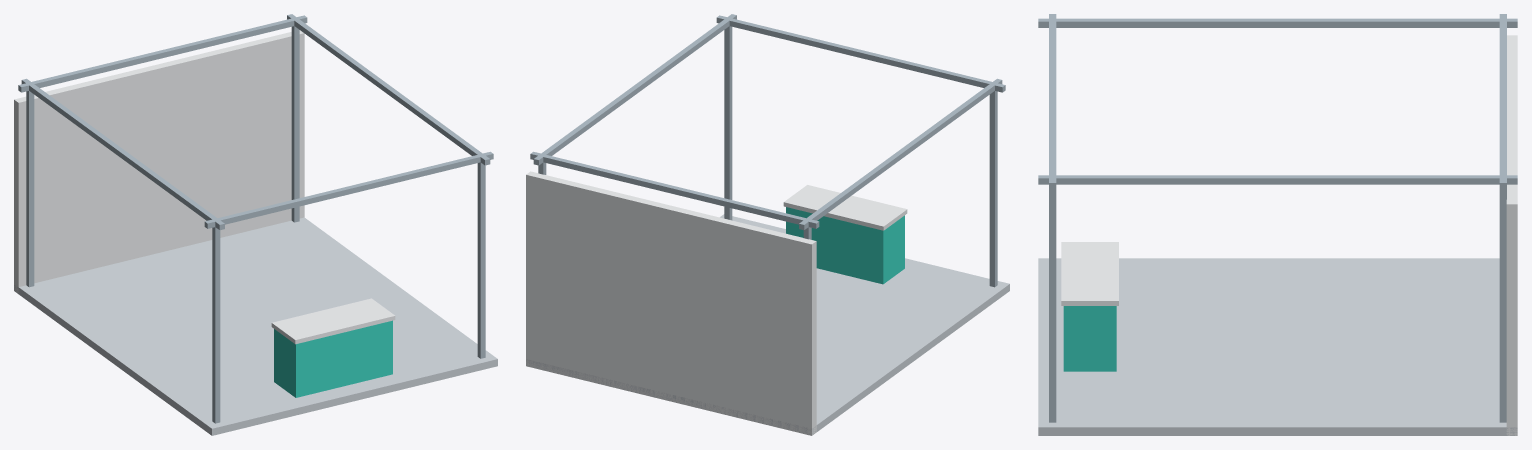
3 views of the same model, side by side, from view 1: azimuth 30°, elevation 25°; view 2: azimuth 150°, elevation 25°; view 3: azimuth 270°, elevation 25° (orthographic). The views are drawn at different scales.
Parts seen in each view (by area): view 1: Exhibition Booth Concept; view 2: Exhibition Booth Concept; view 3: Exhibition Booth Concept.
Boxes of the visible parts, box(x1,y1,x2,y2) form: Exhibition Booth Concept: box(14, 14, 497, 435); Exhibition Booth Concept: box(526, 14, 1009, 435); Exhibition Booth Concept: box(1038, 14, 1517, 435).
Size of the model in its own units: 5 by 3.49 by 6.
